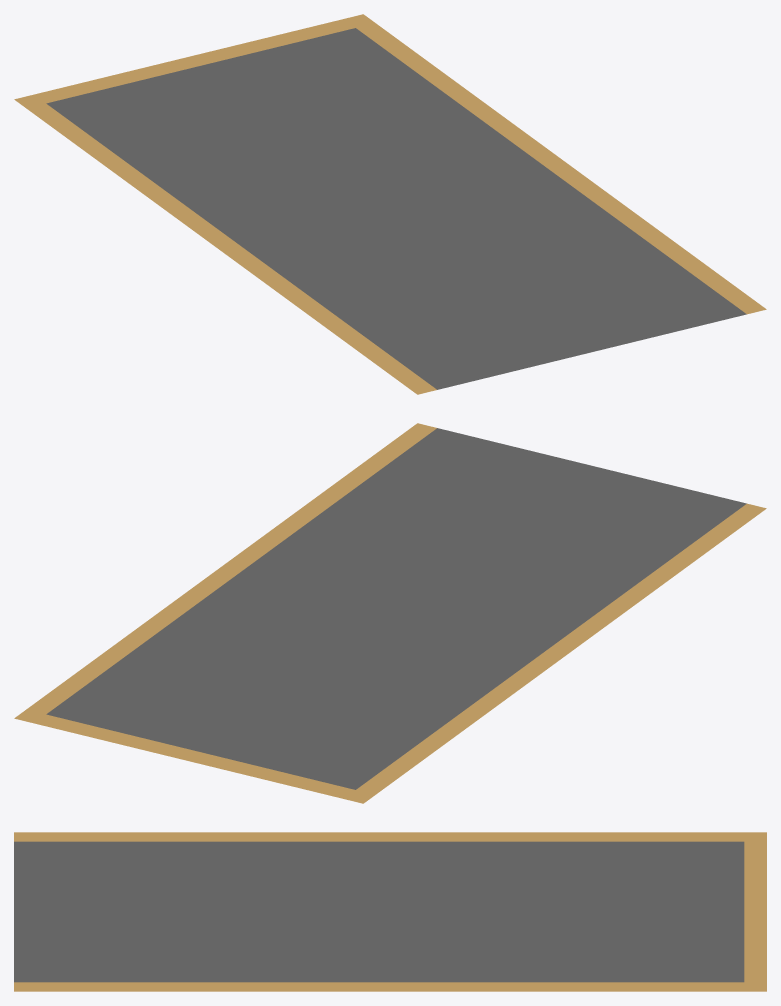
The model's file is parkingSpot.fbx.
The picture shows the model from 3 angles, top to bottom: view 1: azimuth 30°, elevation 25°; view 2: azimuth 150°, elevation 25°; view 3: azimuth 270°, elevation 25°; orthographic projection. The views are drawn at different scales.
Visible parts, largest first — view 1: parkingSpot; view 2: parkingSpot; view 3: parkingSpot.
Part boxes in pixels (x1,y1,x2,y2): parkingSpot: [14, 14, 766, 394]; parkingSpot: [14, 423, 766, 803]; parkingSpot: [14, 832, 766, 991].
Bounding box in the file's own units: 150 × 3.33e-14 × 300.
